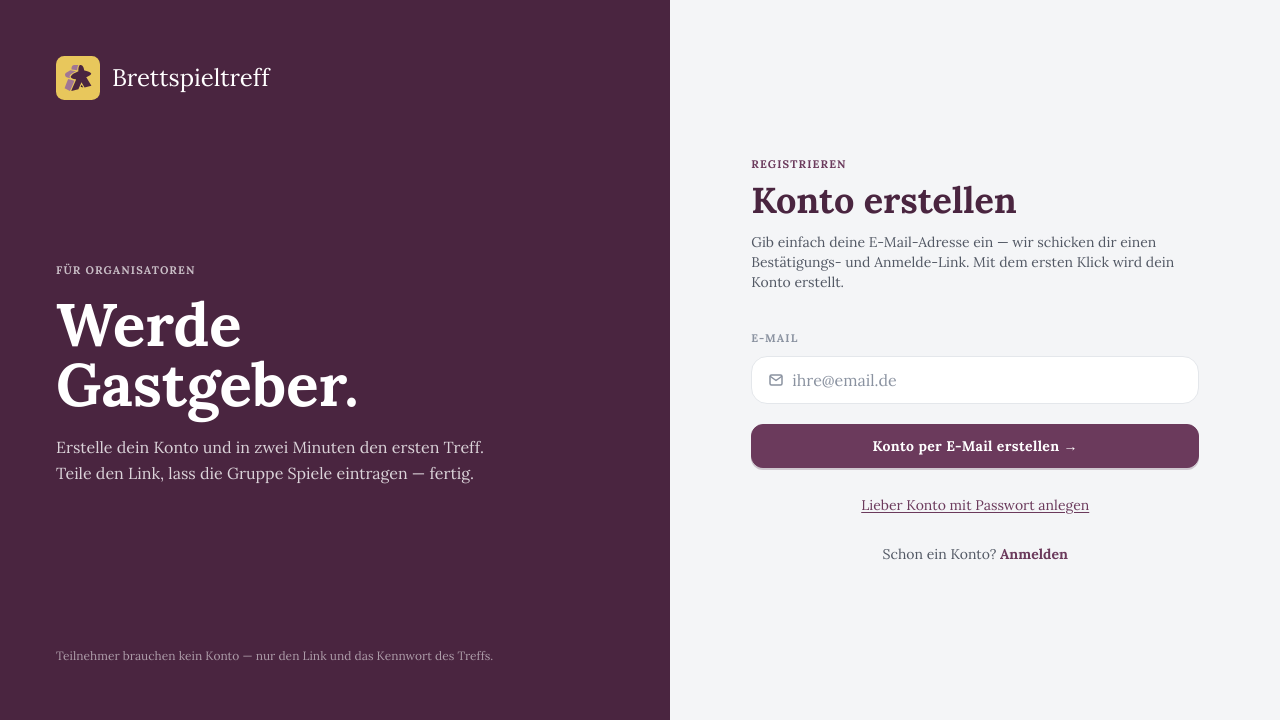
Test: RegisterPage › sends magic link via primary CTA
Type "new@example.com" into the field labelled "E-Mail".
click(987, 380); type("new@example.com")  # box [792, 368, 1182, 392]
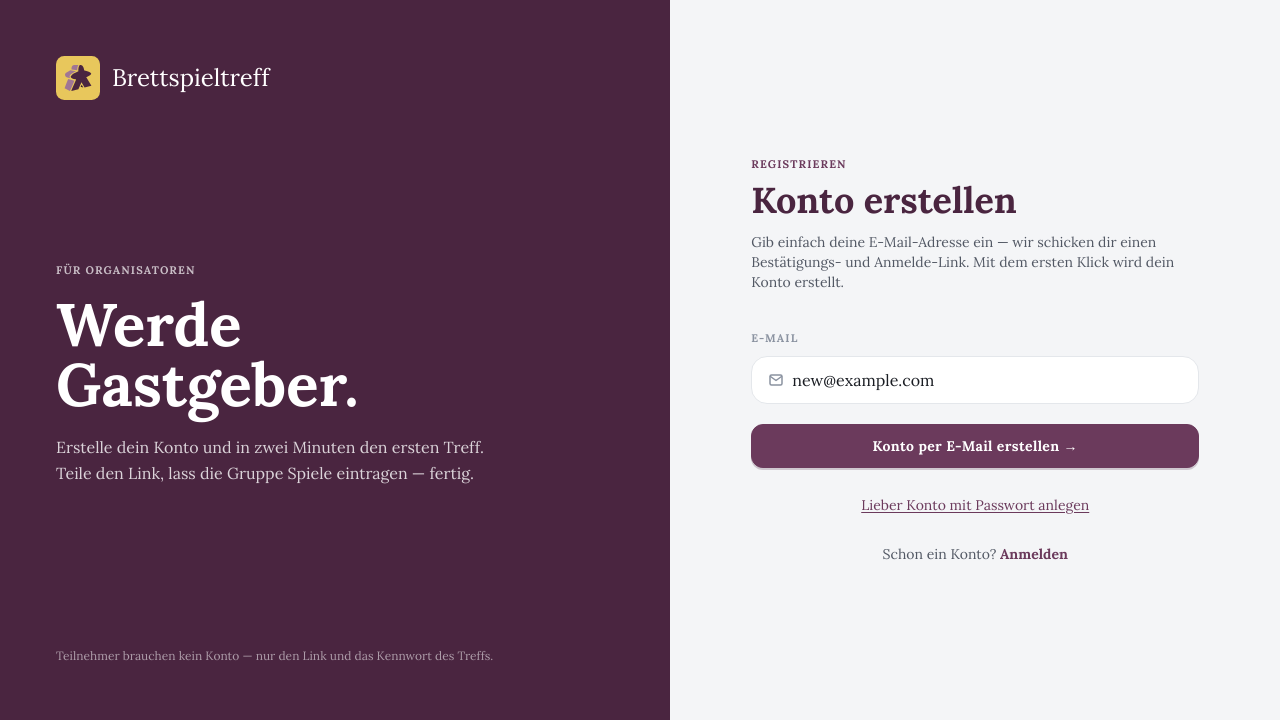
Click the button "Konto per E-Mail erstellen →".
click(975, 446)  # box [751, 424, 1199, 468]
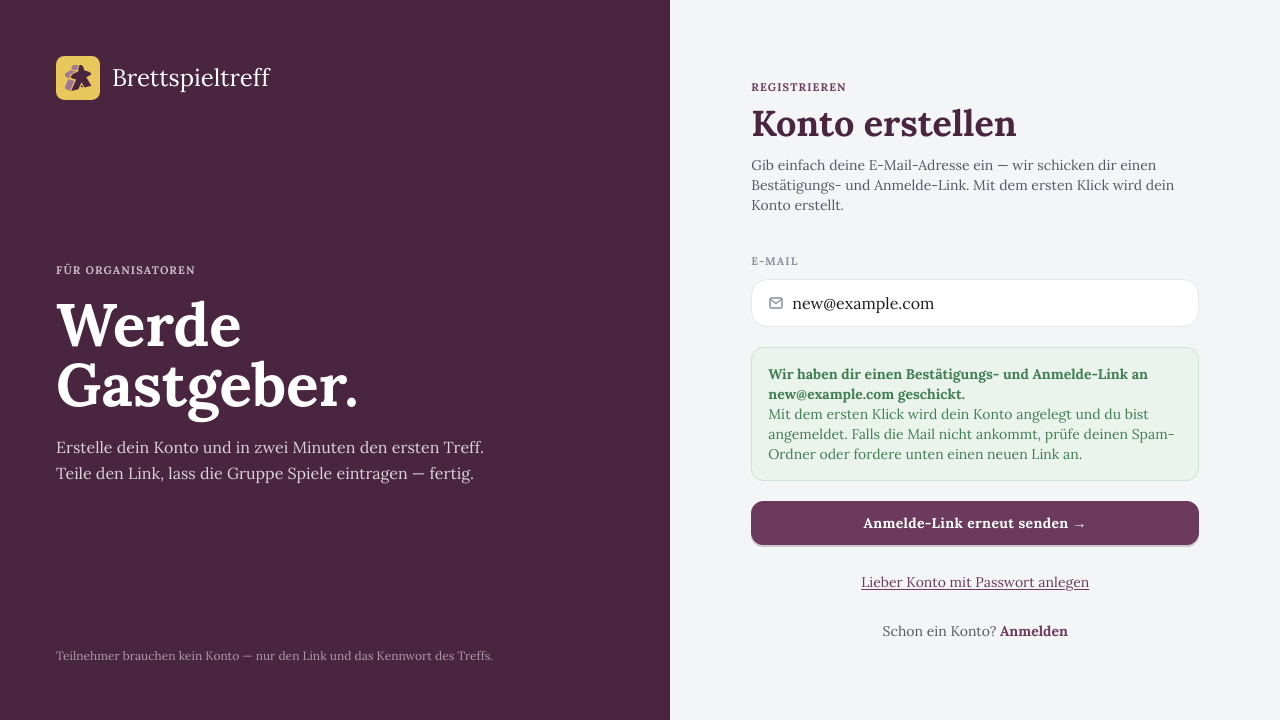
Now the text "Wir haben dir einen Bestätigungs- und Anmelde-Link an new@example.com geschickt" is shown, box [768, 365, 1148, 403]
